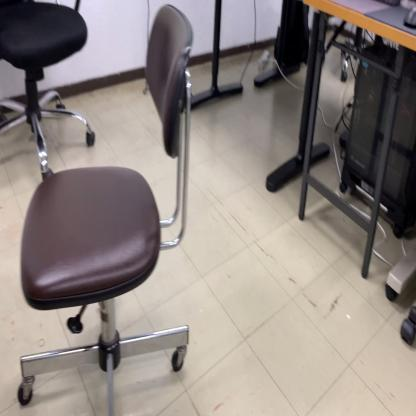chair: (20, 3, 197, 416), (0, 0, 98, 180)
